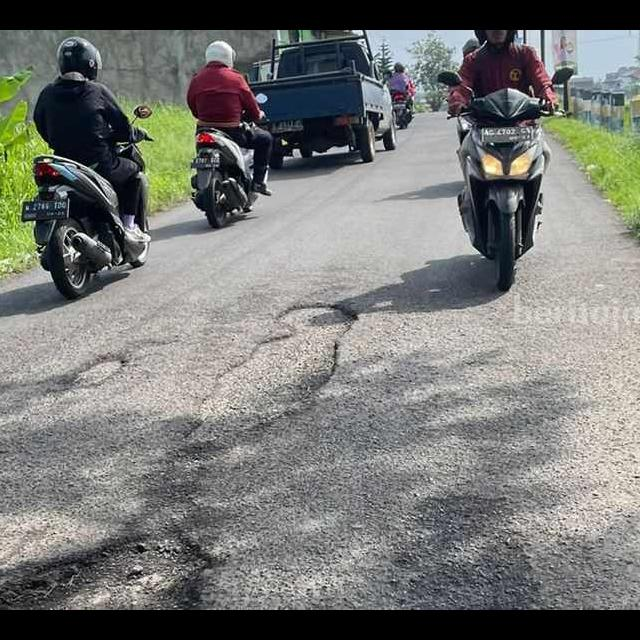lubang_kecil: (197, 270, 362, 469), (0, 500, 245, 610), (50, 329, 139, 416)
